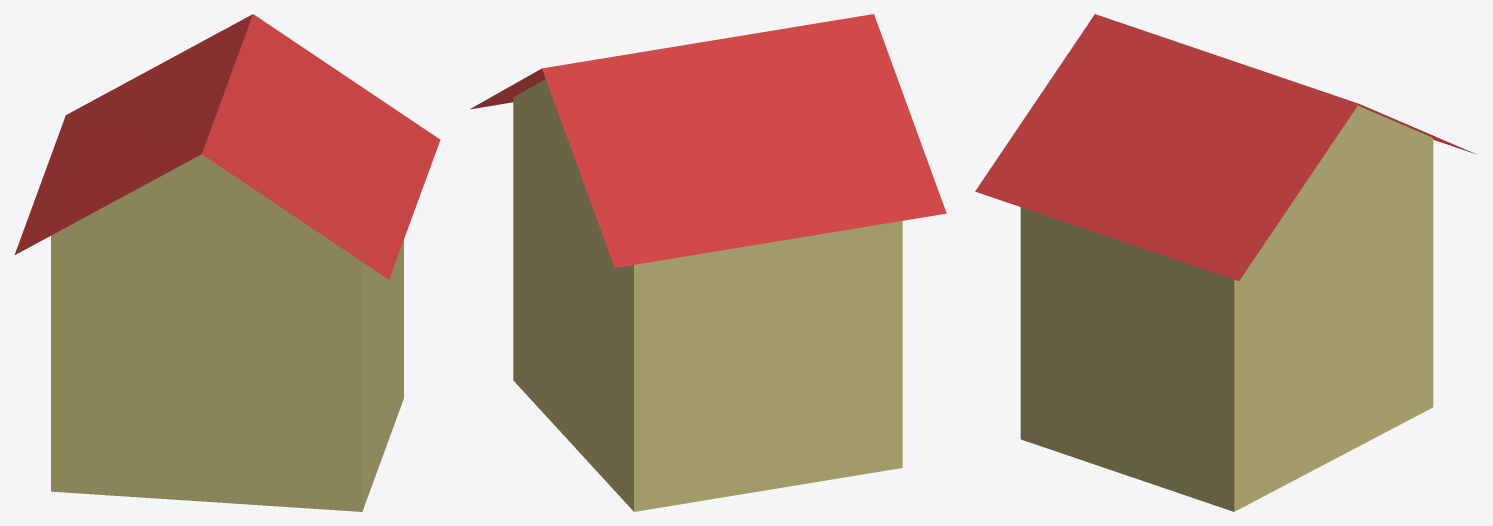
3 views of the same model, side by side, from view 1: azimuth 30°, elevation 25°; view 2: azimuth 150°, elevation 25°; view 3: azimuth 270°, elevation 25° (orthographic). The views are drawn at different scales.
Parts seen in each view (by area): view 1: group_5, group_3, group_4; view 2: group_5, group_3, group_4; view 3: group_5, group_3, group_4.
Part boxes in pixels (x1,y1,x2,y2): group_5: (51,154,403,511); group_3: (51,14,440,279); group_4: (14,14,440,254); group_5: (513,79,902,511); group_3: (470,14,902,228); group_4: (473,14,946,267); group_5: (1020,105,1433,511); group_3: (975,14,1476,280); group_4: (1095,14,1358,280).
Size of the model in its own units: 15.77 by 15.56 by 12.42.
